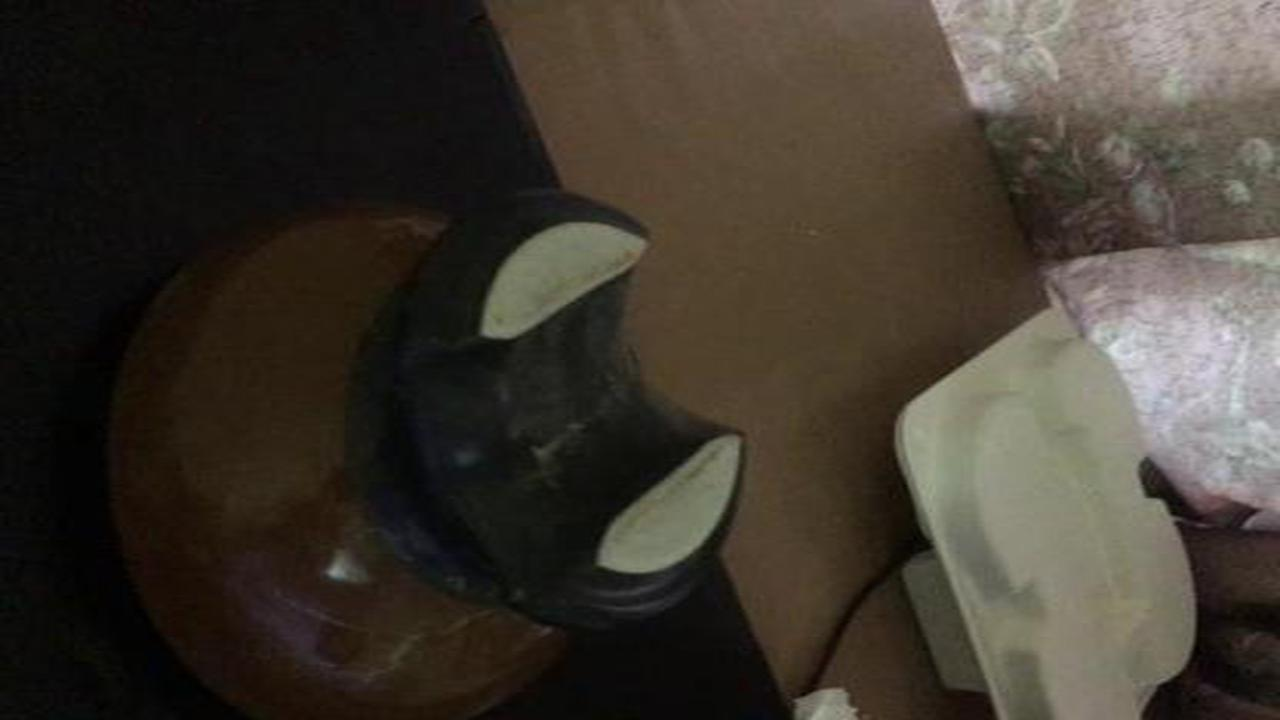insulator_pin: (81, 193, 767, 708)
